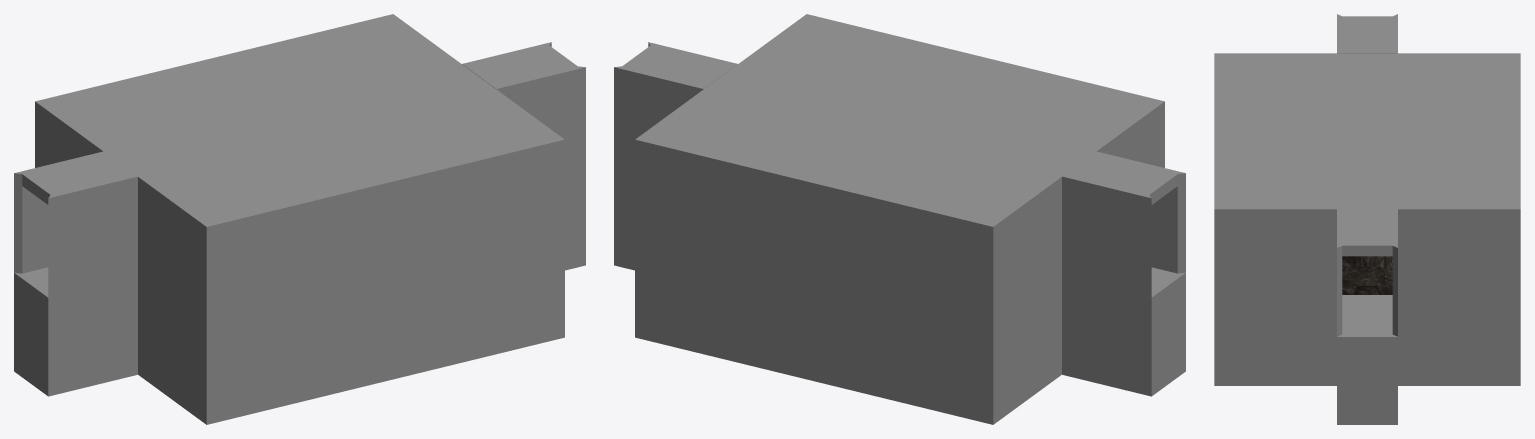
File: lobby.FBX
3 renders of one model, left to right at view 1: azimuth 30°, elevation 25°; view 2: azimuth 150°, elevation 25°; view 3: azimuth 270°, elevation 25°, orthographic. The views are drawn at different scales.
Visible parts, largest first — view 1: Plane001; view 2: Plane001; view 3: Plane001.
Part boxes in pixels (x1,y1,x2,y2): Plane001: (14,14,585,424); Plane001: (614,14,1185,424); Plane001: (1214,14,1520,424).
Bounding box in the file's own units: 180 × 63.55 × 99.47.
